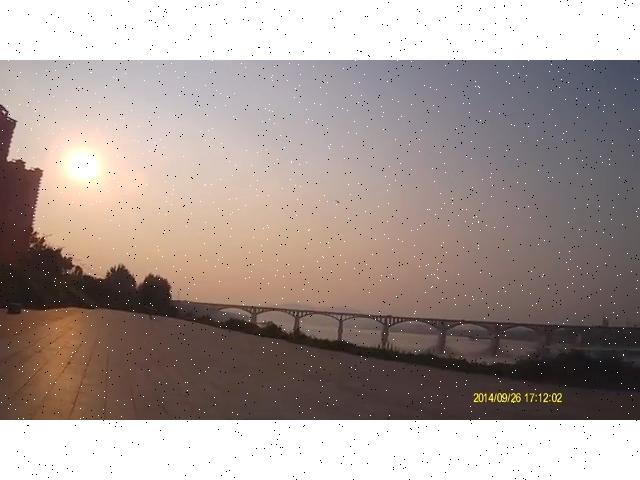Anti-Drone: (329, 194, 349, 210)
